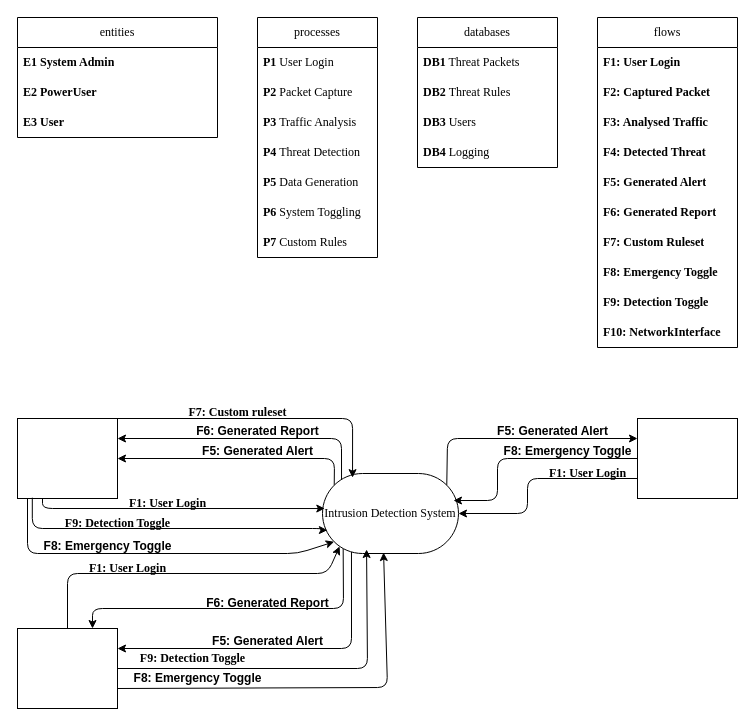
Some shapes in this 755 by 726 pixel diagram are drawn without their labels. The centre of each missing label's shape, as x and y in pixels:
"E1: System Admin" belongs at (x=67, y=458).
"E2: Power User" belongs at (x=67, y=668).
"E3: User" belongs at (x=687, y=458).
